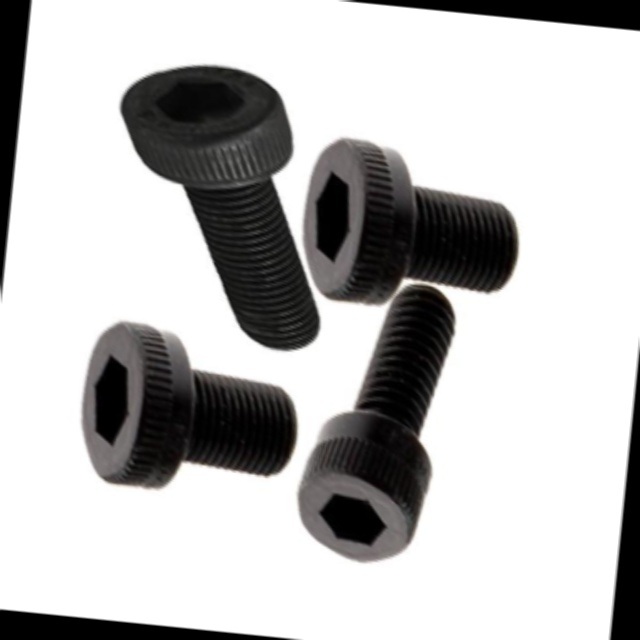allen: (117, 56, 289, 191), (293, 450, 425, 568), (75, 322, 166, 483), (297, 135, 384, 300)
